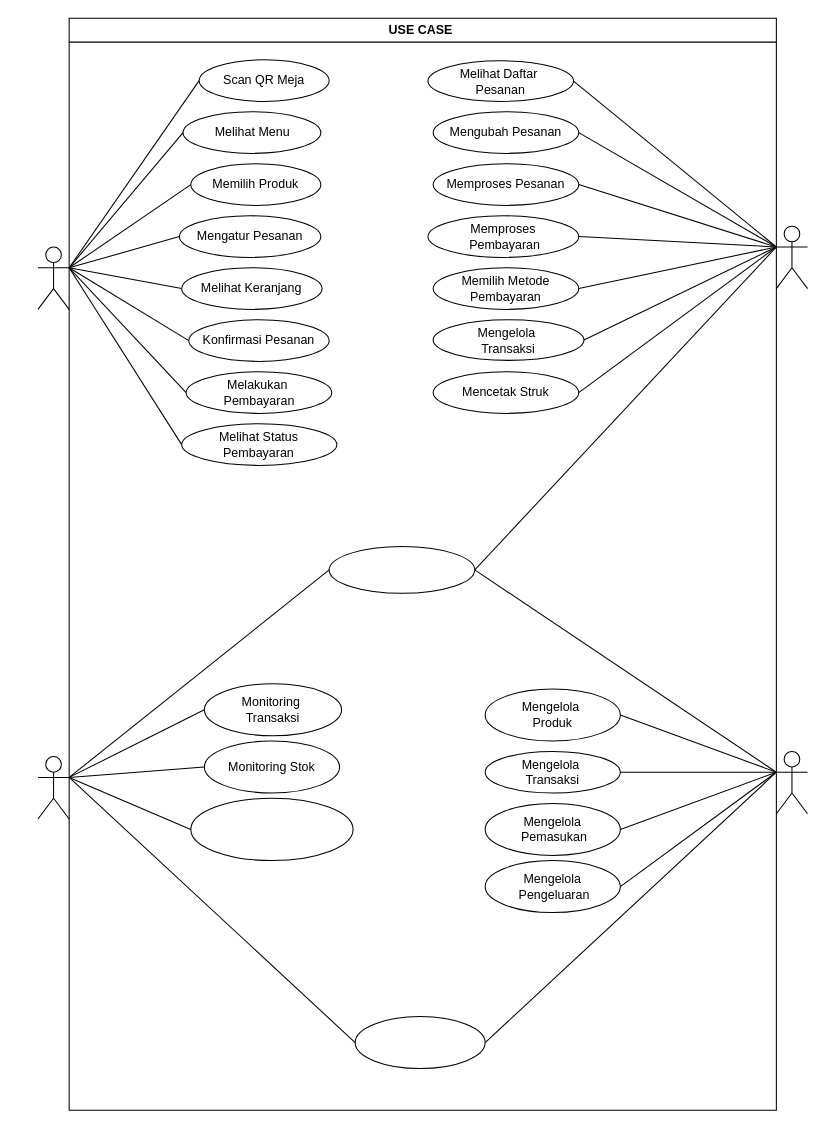
Some shapes in this 830 by 1128 pixel diagram are drawn without their labels. Here are the shapes that lost their labels. From the top down, the centre of each, then its label:
At (53,277): "CUSTOMER".
At (791,257): "KASIR".
At (401,569): "Login".
At (53,787): "MANAGER".
At (791,782): "ADMIN".
At (271,829): "Monitoring Pemasukan/ Pengeluaran".
At (419,1042): "Melihat Laporan".
